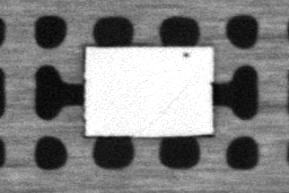DIE_CRACK: (144, 80, 190, 127)
